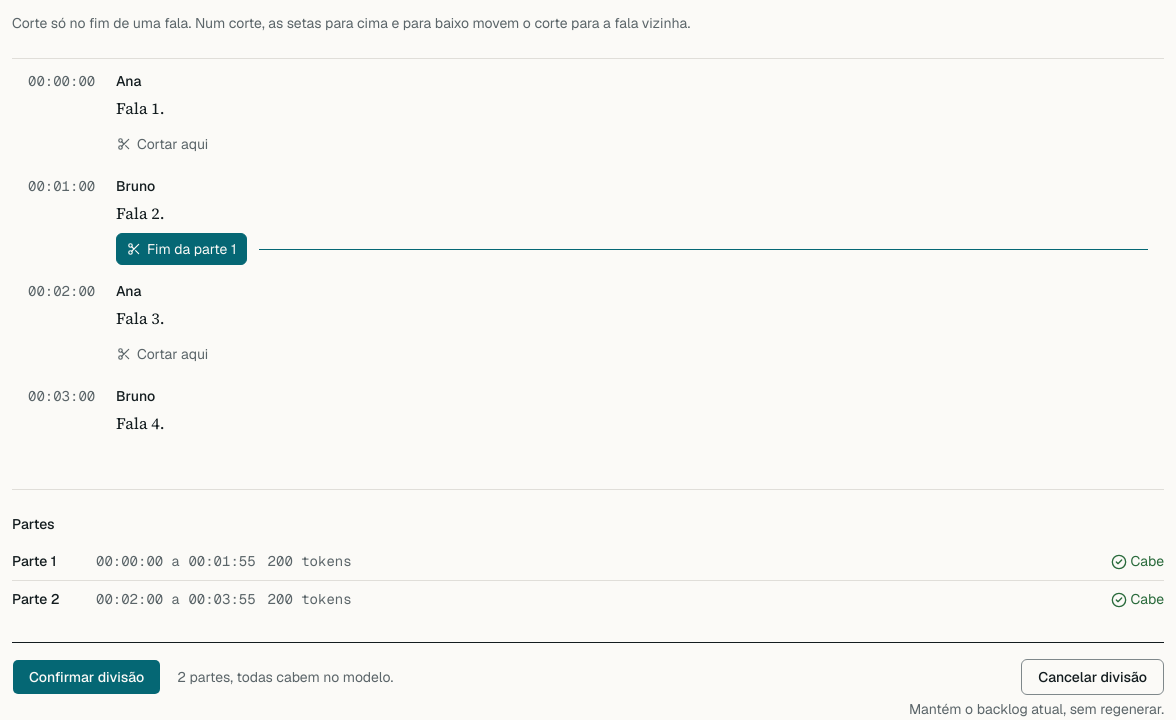
Test: mostra a recusa do cancelamento e fica na tela
(page scrolled)
Click the button "Cancelar divisão".
click(1093, 677)  # box x1=1021 y1=659 x2=1164 y2=695
(page scrolled)
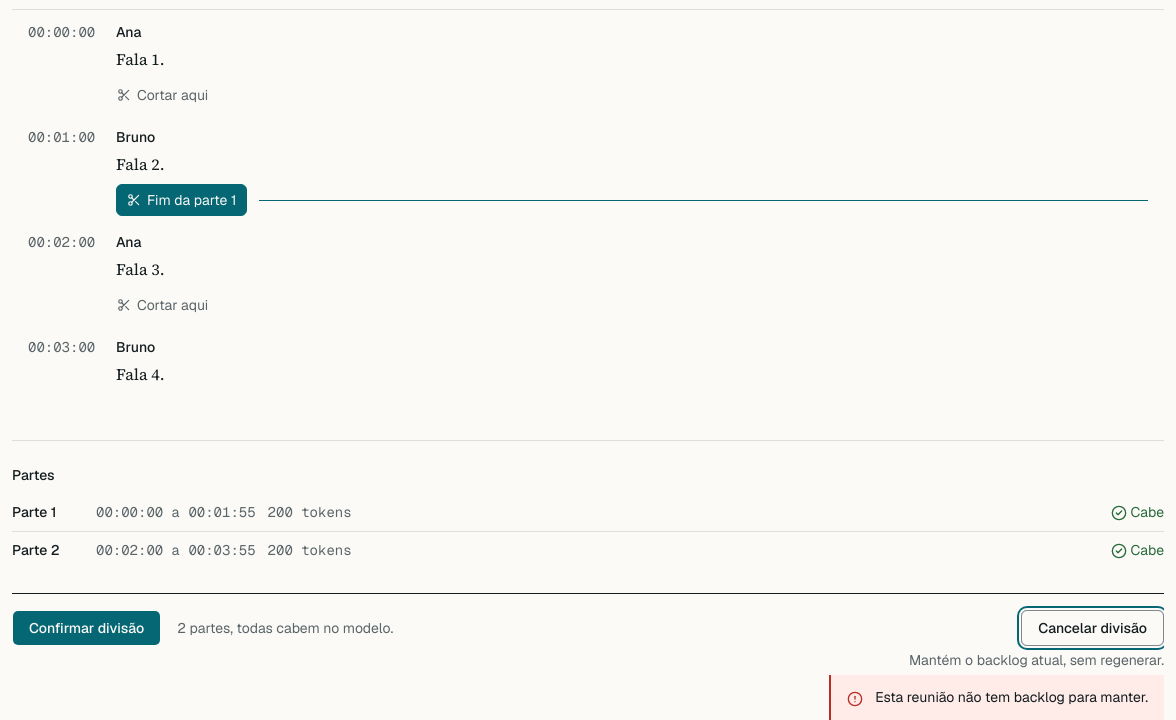
Now the message reads "Esta reunião não tem backlog para manter.", box x1=875 y1=688 x2=1148 y2=706
